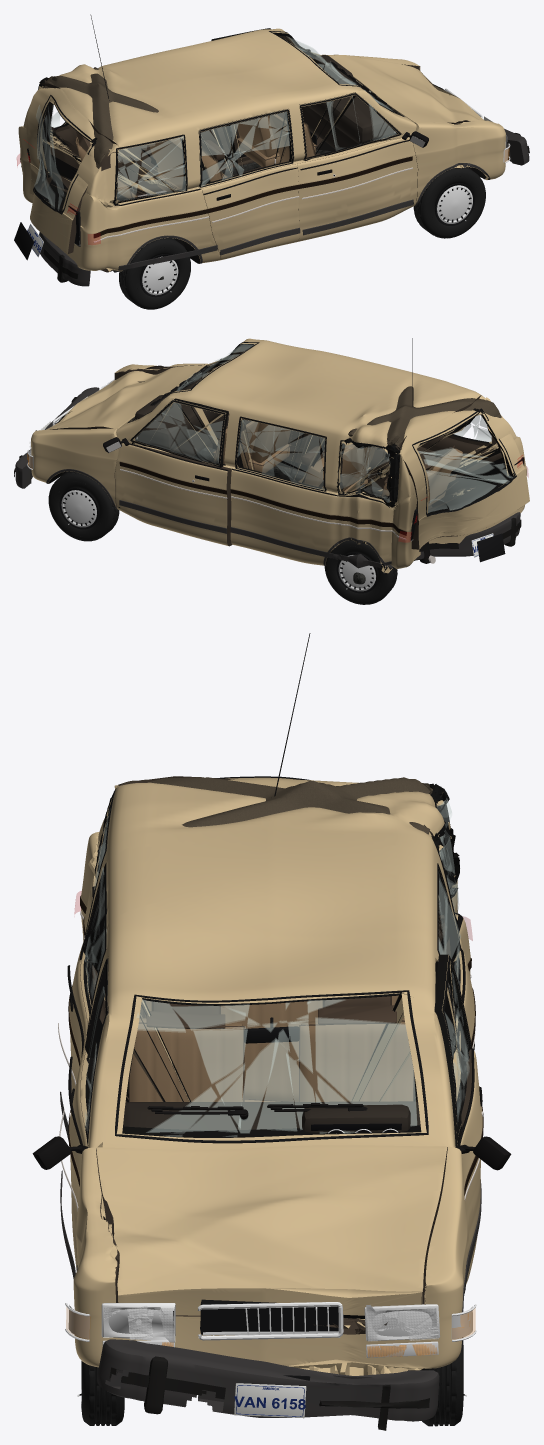
The model's file is minivan86_rear_corner_d1.glb.
3 views of the same model, one above another, from view 1: azimuth 30°, elevation 25°; view 2: azimuth 150°, elevation 25°; view 3: azimuth 270°, elevation 25° (orthographic). The views are drawn at different scales.
Visible parts, largest first — view 1: Body, Interior, Door_FR, Door_SR, Liftgate, Hood, Glass, Wheel_FR_mesh, Wheel_RR_mesh, Trim, Glass_SR, Trim_FR (+8 smaller); view 2: Body, Door_FL, Interior, Liftgate, Glass, Hood, Trim, Glass_Liftgate, Wheel_FL_mesh, Wheel_RL_mesh, Glass_FL, Trim_FL (+5 smaller); view 3: Body, Hood, Interior, Glass, Ends, Bumper_F, Door_FL, Trim, Lamps_Head, Door_FR, Trim_FL, Trim_FR (+7 smaller).
Part boxes in pixels (x1=…): Body: x1=18, y1=28, x2=505, y2=272; Interior: x1=75, y1=55, x2=395, y2=198; Door_FR: x1=297, y1=92, x2=417, y2=241; Door_SR: x1=198, y1=109, x2=299, y2=259; Liftgate: x1=26, y1=78, x2=119, y2=253; Hood: x1=329, y1=55, x2=483, y2=124; Glass: x1=38, y1=31, x2=404, y2=203; Wheel_FR_mesh: x1=413, y1=167, x2=485, y2=238; Wheel_RR_mesh: x1=119, y1=238, x2=190, y2=309; Trim: x1=20, y1=14, x2=490, y2=271; Glass_SR: x1=198, y1=112, x2=293, y2=187; Trim_FR: x1=298, y1=93, x2=428, y2=235; Body: x1=31, y1=338, x2=526, y2=574; Door_FL: x1=115, y1=398, x2=232, y2=546; Interior: x1=135, y1=372, x2=462, y2=505; Liftgate: x1=394, y1=395, x2=529, y2=549; Glass: x1=127, y1=342, x2=491, y2=506; Hood: x1=45, y1=365, x2=205, y2=429; Trim: x1=46, y1=338, x2=458, y2=573; Glass_Liftgate: x1=412, y1=408, x2=516, y2=516; Wheel_FL_mesh: x1=48, y1=471, x2=119, y2=541; Wheel_RL_mesh: x1=324, y1=540, x2=397, y2=604; Glass_FL: x1=135, y1=400, x2=226, y2=467; Trim_FL: x1=103, y1=400, x2=228, y2=533; Body: x1=72, y1=777, x2=474, y2=1375; Hood: x1=96, y1=1145, x2=447, y2=1334; Interior: x1=123, y1=995, x2=420, y2=1133; Glass: x1=94, y1=786, x2=460, y2=1143; Ends: x1=65, y1=1299, x2=476, y2=1418; Bumper_F: x1=97, y1=1339, x2=439, y2=1430; Door_FL: x1=434, y1=954, x2=482, y2=1284; Trim: x1=69, y1=633, x2=475, y2=1312; Lamps_Head: x1=104, y1=1306, x2=438, y2=1341; Door_FR: x1=69, y1=957, x2=108, y2=1269; Trim_FL: x1=442, y1=955, x2=511, y2=1282; Trim_FR: x1=32, y1=958, x2=107, y2=1278.
Size of the model in its own units: 4.57 by 2.37 by 2.07.
Materials: 34 (5 with a texture image).
